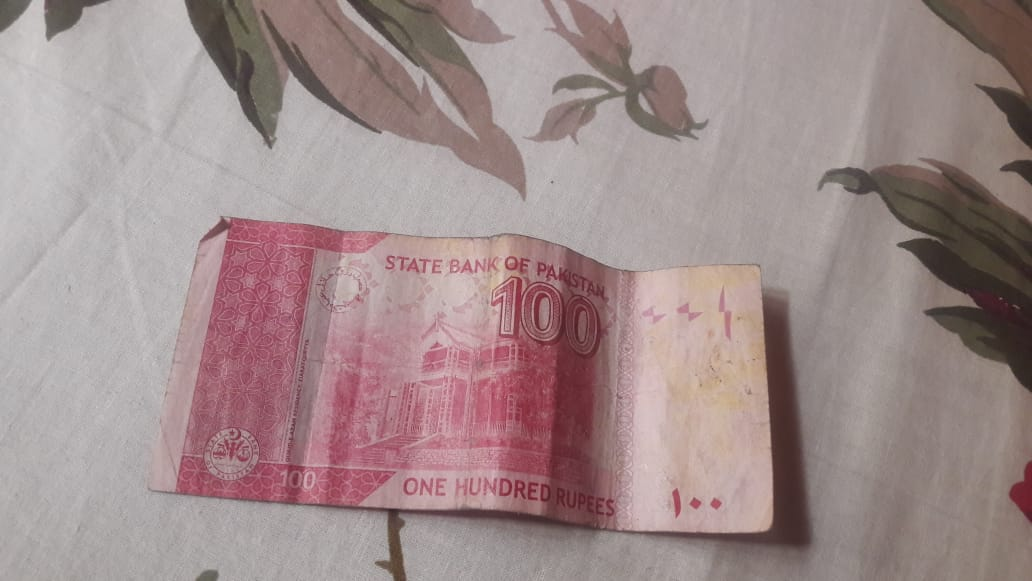100 rupee: (167, 189, 782, 543)
